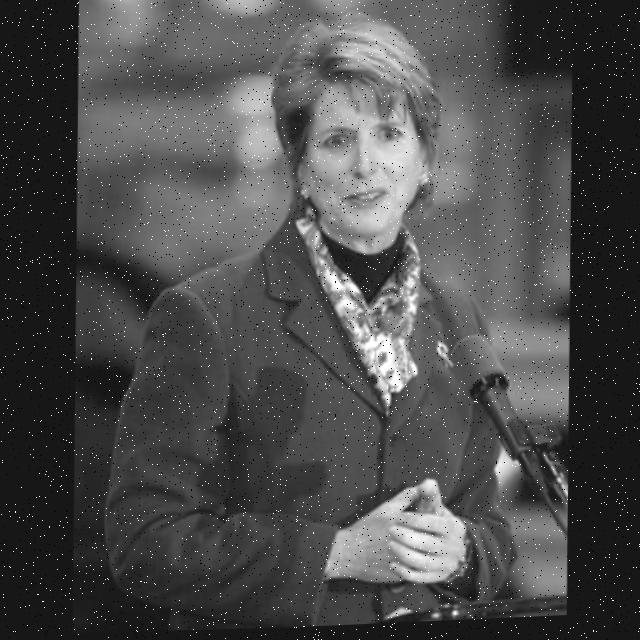face: (297, 62, 437, 252)
